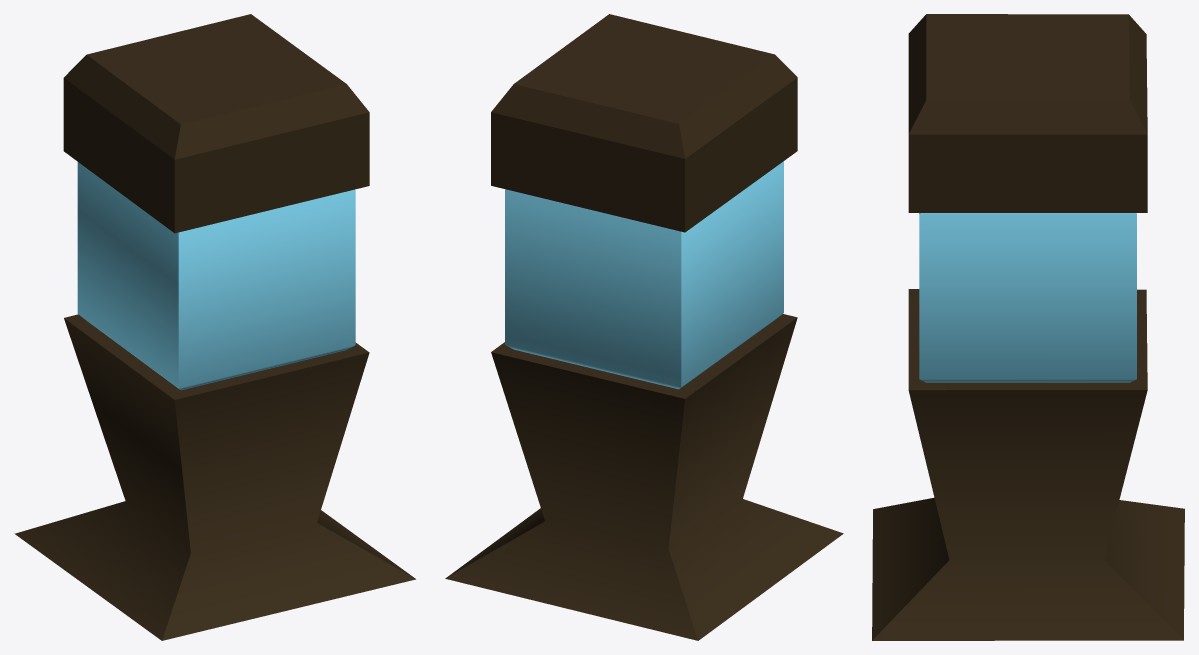
Rendered from mirrror.fbx.
3 renders of one model, left to right at view 1: azimuth 30°, elevation 25°; view 2: azimuth 150°, elevation 25°; view 3: azimuth 270°, elevation 25°, orthographic. The views are drawn at different scales.
Parts seen in each view (by area): view 1: Box002; view 2: Box002; view 3: Box002.
Part boxes in pixels (x1,y1,x2,y2): Box002: (14,14,415,640); Box002: (445,14,843,640); Box002: (872,14,1184,640).
Bounding box in the file's own units: 7.19 × 13.14 × 7.19.
